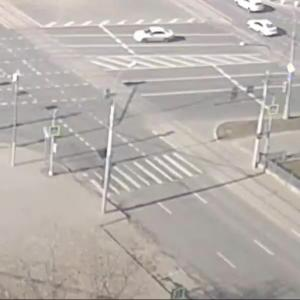car: (133, 28, 180, 45), (244, 18, 282, 39), (235, 2, 271, 14)
